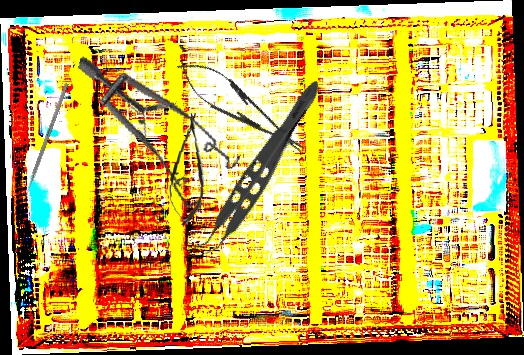Micro Scissor: (166, 111, 210, 227)
Needle Holder: (168, 49, 314, 166)
Pusher: (20, 82, 69, 208)
Speculum: (49, 55, 255, 223)
Tissue Forceps: (187, 68, 327, 268)
